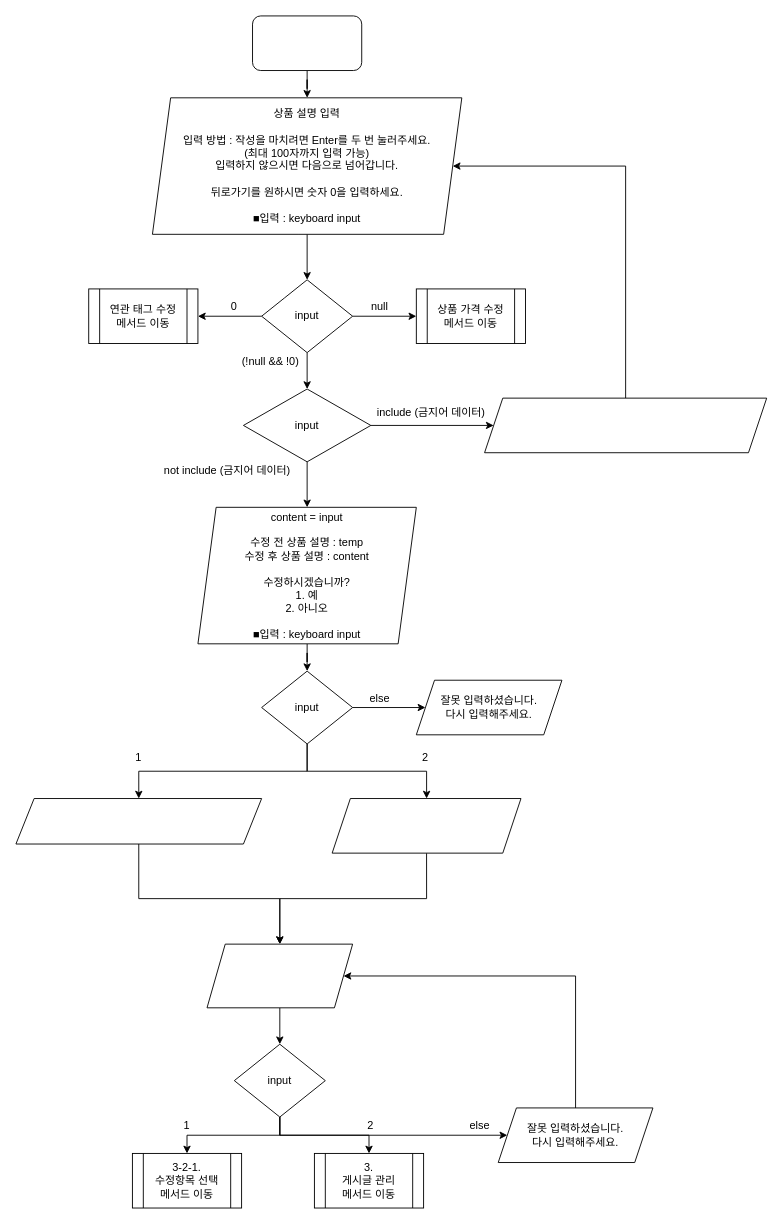
This 783x1224 diagram has some shape labels left out. The shapes that lost their labels are listed below. From the top down, each one's centre as x and y in pixels, then its label:
At (307,43): "상품 설명 수정 메서드 진입".
At (625,425): "상품 설명에 금지어 (금지어데이터) 입력되었습니다. 다시 입력해주세요.".
At (138,821): "상품 설명이 content 수정되었습니다.".
At (426,825): "content = temp 수정이 취소되었습니다.".
At (279,975): "1. 추가 수정하기 2. 나가기 ■입력 : keyboard input".
